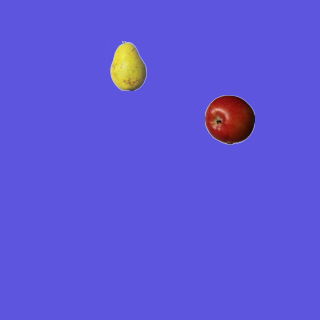Apple Braeburn: (204, 94, 254, 144)
Pear Monster: (103, 40, 153, 90)
